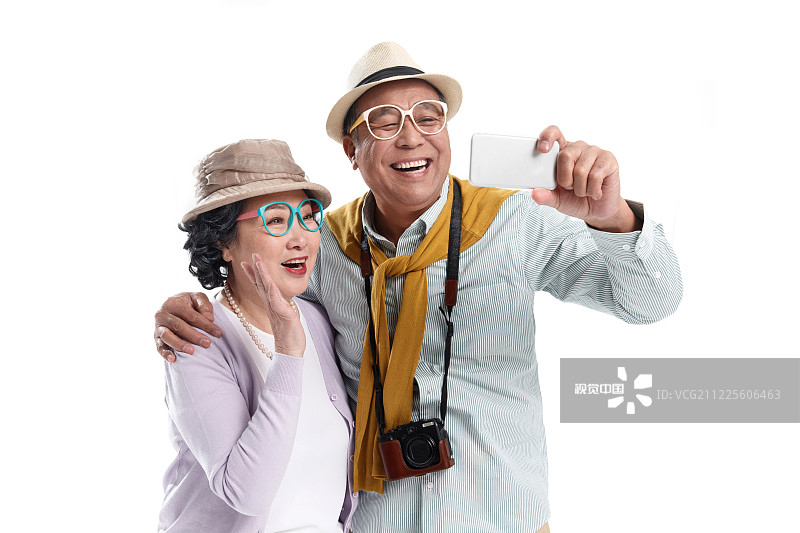no-phone: (228, 242, 328, 363)
taking photos: (477, 112, 635, 239)
